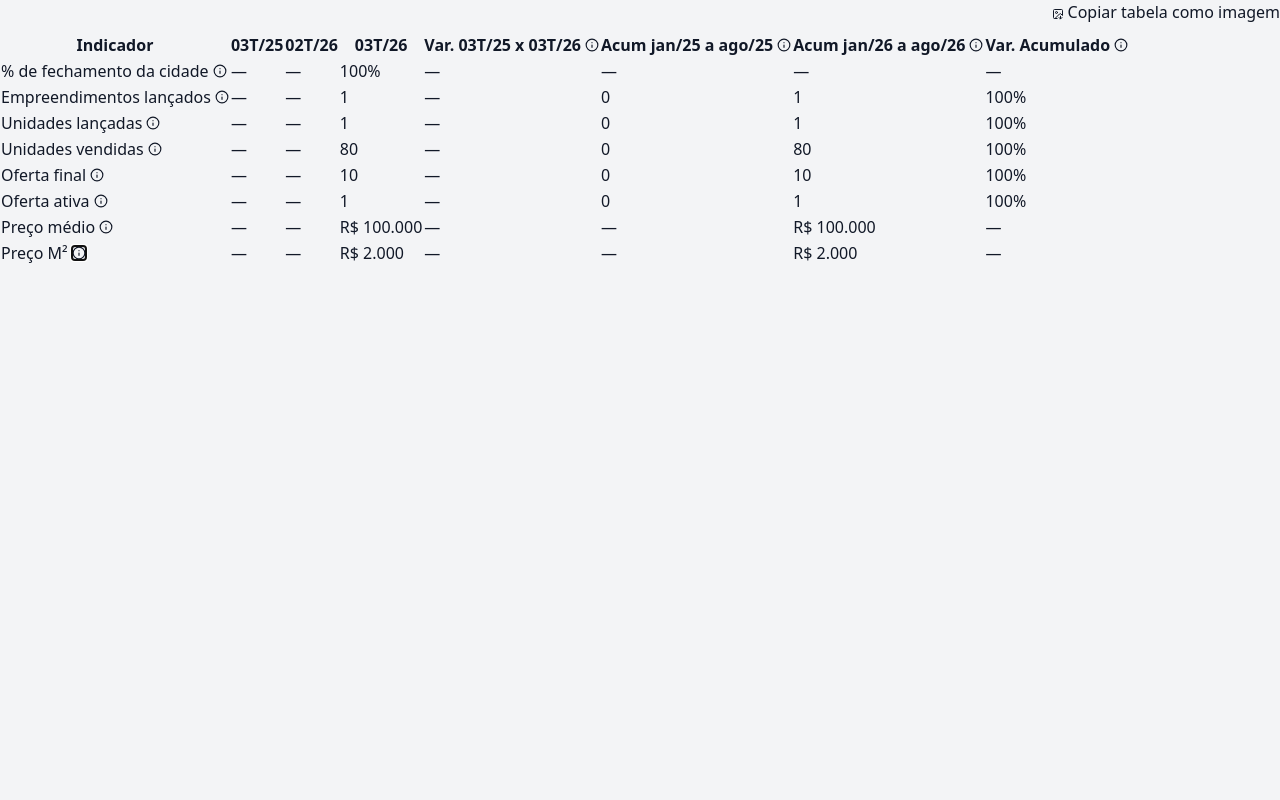
Test case: variação anual do Resumo email › a ajuda de Preço M² descreve a regra vigente
Step 1. Click the button named "Regra de cálculo — Preço M²" → [79, 253], box [72,246,86,260]
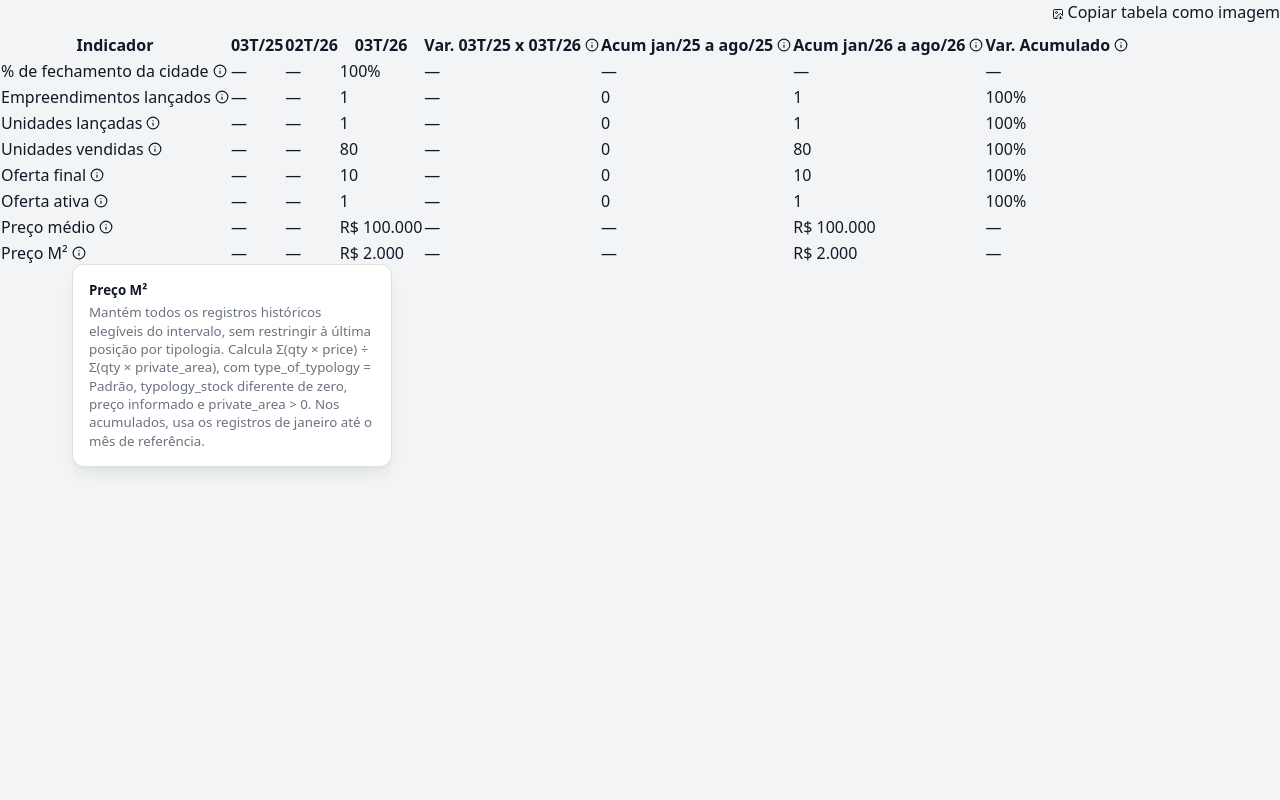
Now the dialog shows "Mantém todos os registros históricos elegíveis do intervalo", box [89,303,372,450]
Step 2. Press Escape in the dialog, box [72,264,392,467]
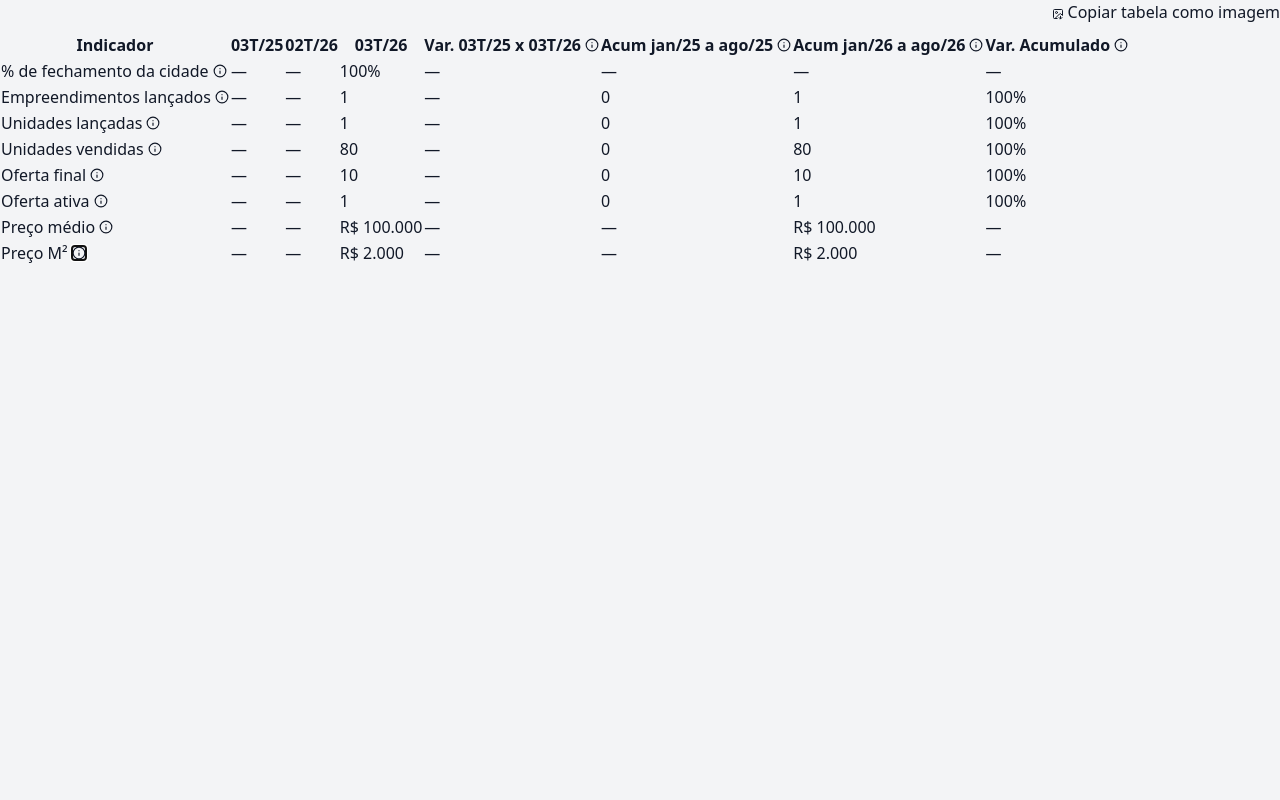
Now the dialog is gone
